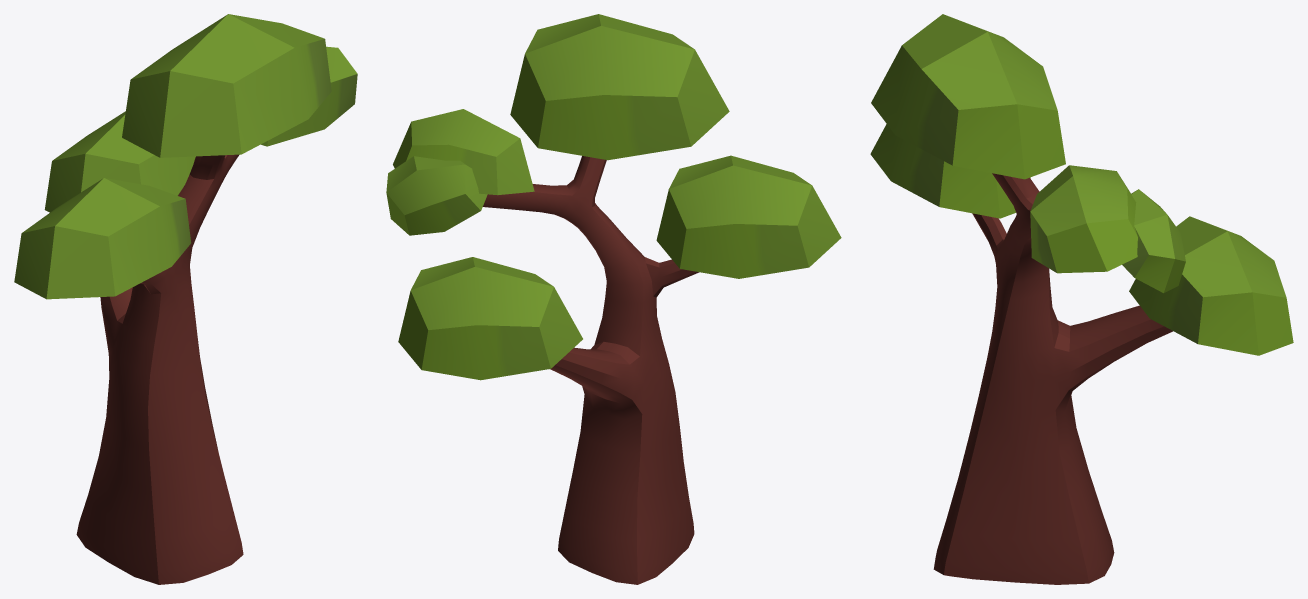
Rendered from OakTree.glb.
3 renders of one model, left to right at view 1: azimuth 30°, elevation 25°; view 2: azimuth 150°, elevation 25°; view 3: azimuth 270°, elevation 25°, orthographic. The views are drawn at different scales.
Visible parts, largest first — view 1: Oak_Tree_02; view 2: Oak_Tree_02; view 3: Oak_Tree_02.
Part boxes in pixels (box(x1,y1,x2,y2)): Oak_Tree_02: box(14, 14, 357, 584); Oak_Tree_02: box(386, 14, 841, 584); Oak_Tree_02: box(870, 14, 1293, 584).
Bounding box in the file's own units: 5.71 × 7.61 × 5.18.
Materials: 1 (1 with a texture image).
